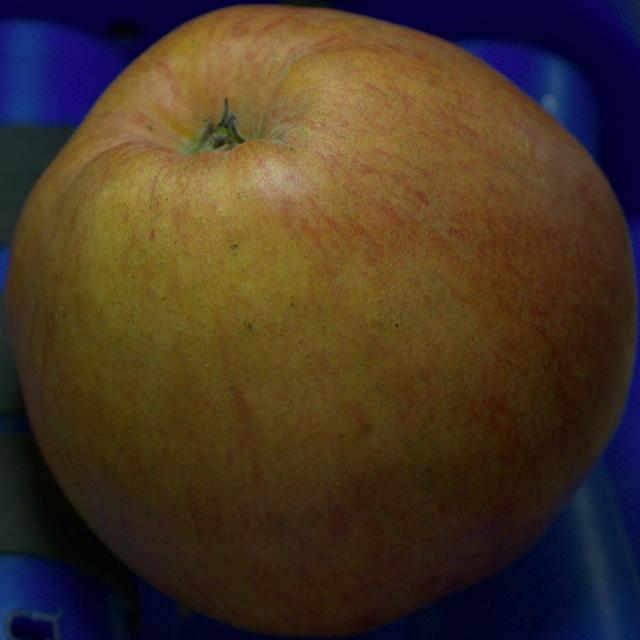apple: (5, 5, 638, 636)
